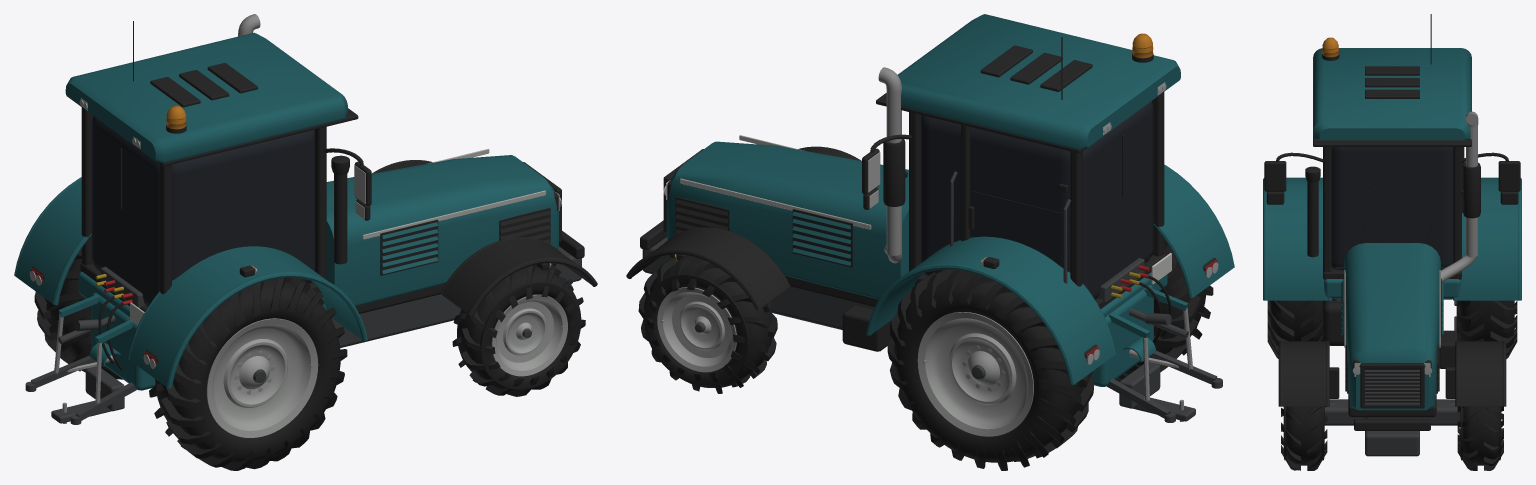
File: SM_Prop_farm_tractor_utility_0.glb
The picture shows the model from 3 angles, left to right: view 1: azimuth 30°, elevation 25°; view 2: azimuth 150°, elevation 25°; view 3: azimuth 270°, elevation 25°; orthographic projection. The views are drawn at different scales.
Visible parts, largest first — view 1: SM_Prop_farm_tractor_utility_0; view 2: SM_Prop_farm_tractor_utility_0; view 3: SM_Prop_farm_tractor_utility_0.
Part boxes in pixels (x1,y1,x2,y2): SM_Prop_farm_tractor_utility_0: (14,14,597,470); SM_Prop_farm_tractor_utility_0: (626,14,1234,470); SM_Prop_farm_tractor_utility_0: (1263,14,1521,470).
Bounding box in the file's own units: 4.52 × 3.25 × 2.34.
